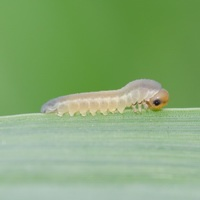insect: (41, 79, 167, 115)
